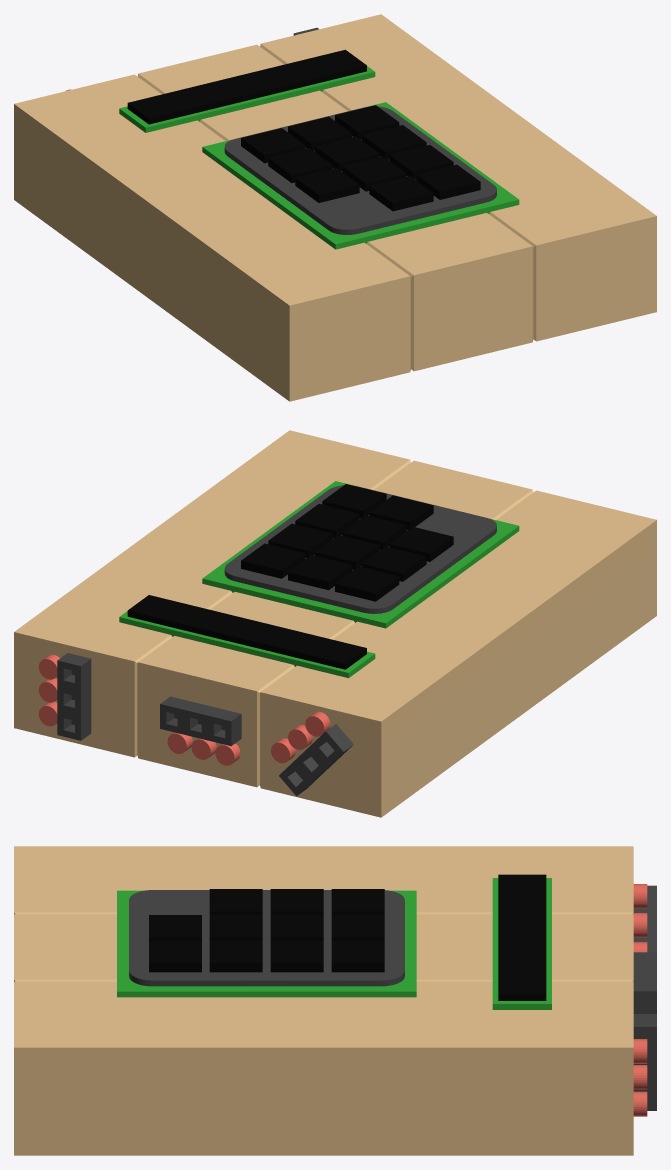
File: HardwareController.fbx
The picture shows the model from 3 angles, top to bottom: view 1: azimuth 30°, elevation 25°; view 2: azimuth 150°, elevation 25°; view 3: azimuth 270°, elevation 25°; orthographic projection. The views are drawn at different scales.
Parts seen in each view (by area): view 1: Bomb, SidePanel; view 2: Bomb, SidePanel; view 3: Bomb.
Boxes of the visible parts, x1,y1,x2,y2 form: Bomb: (14,14,656,401); SidePanel: (25,132,278,373); Bomb: (14,430,656,817); SidePanel: (392,548,645,789); Bomb: (14,846,656,1155).
Bounding box in the file's own units: 50 × 18.73 × 67.43.
